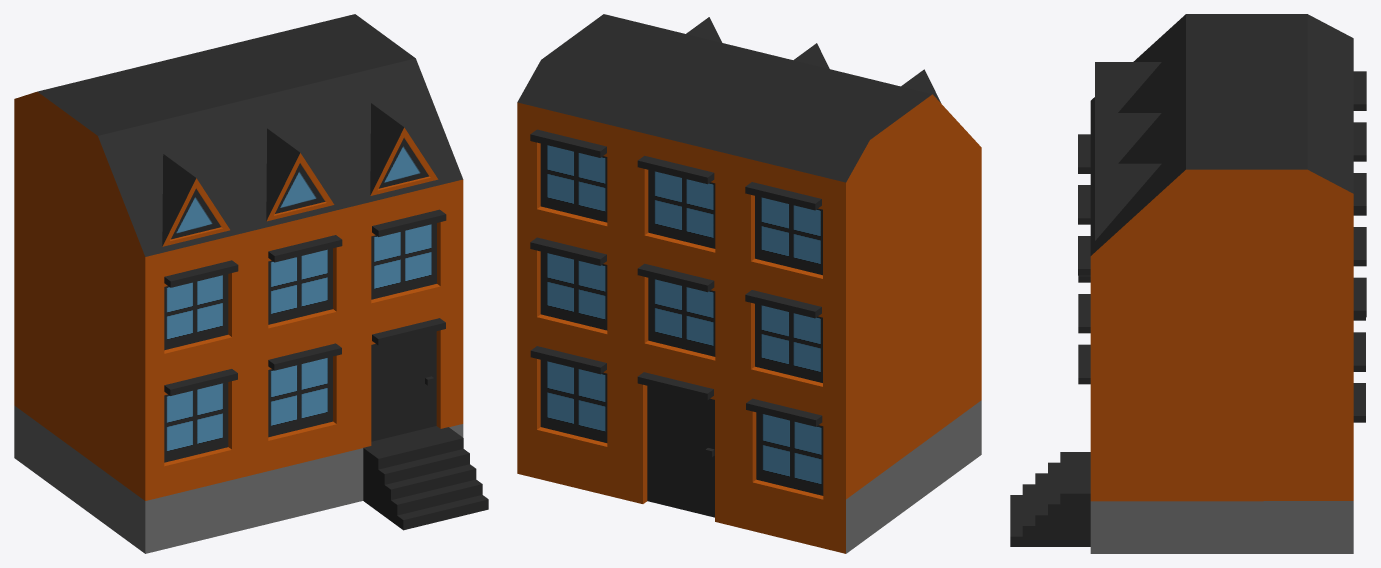
Rendered from NormalTriangleOrange.obj.
3 views of the same model, side by side, from view 1: azimuth 30°, elevation 25°; view 2: azimuth 150°, elevation 25°; view 3: azimuth 270°, elevation 25° (orthographic). The views are drawn at different scales.
Parts seen in each view (by area): view 1: ZwyklyTrojkatPomaranczowy; view 2: ZwyklyTrojkatPomaranczowy; view 3: ZwyklyTrojkatPomaranczowy.
Boxes of the visible parts, x1,y1,x2,y2 form: ZwyklyTrojkatPomaranczowy: (14,14,488,553); ZwyklyTrojkatPomaranczowy: (517,14,981,553); ZwyklyTrojkatPomaranczowy: (1010,14,1366,553).
Bounding box in the file's own units: 7 × 8.07 × 6.78.
